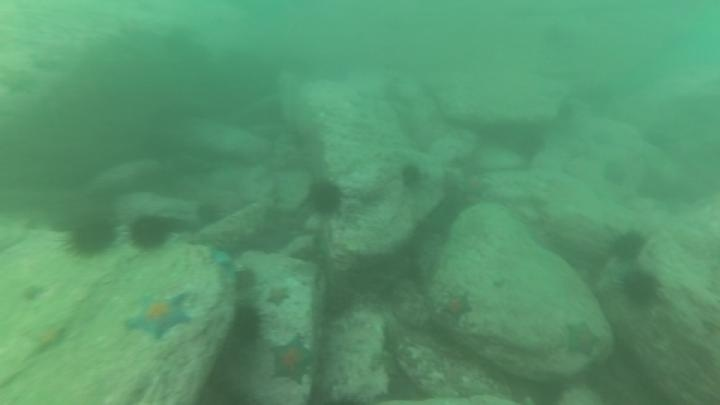echinus: (64, 213, 119, 260), (127, 213, 174, 253), (619, 268, 662, 309), (305, 177, 345, 218), (229, 302, 265, 347), (320, 279, 358, 320), (508, 125, 548, 163), (607, 228, 648, 264), (230, 265, 260, 296), (397, 161, 426, 193), (193, 200, 225, 229), (600, 158, 629, 188)
starfish: (123, 290, 194, 343), (267, 334, 318, 385), (22, 318, 71, 358), (560, 318, 603, 361), (438, 289, 475, 324), (457, 171, 492, 201), (205, 244, 235, 271), (263, 282, 293, 308)
